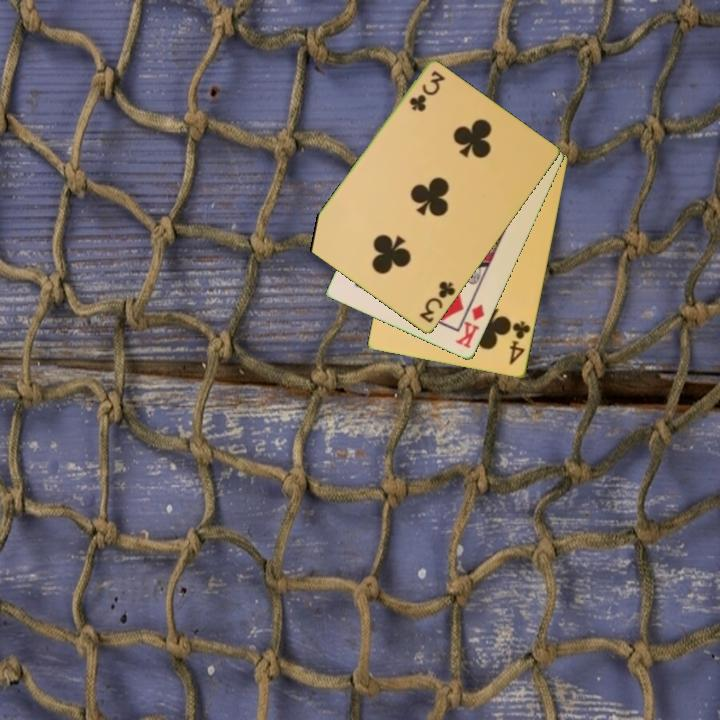3c: (416, 278, 459, 326), (406, 67, 447, 115)
4c: (506, 318, 534, 368)
Kd: (452, 301, 488, 352)
